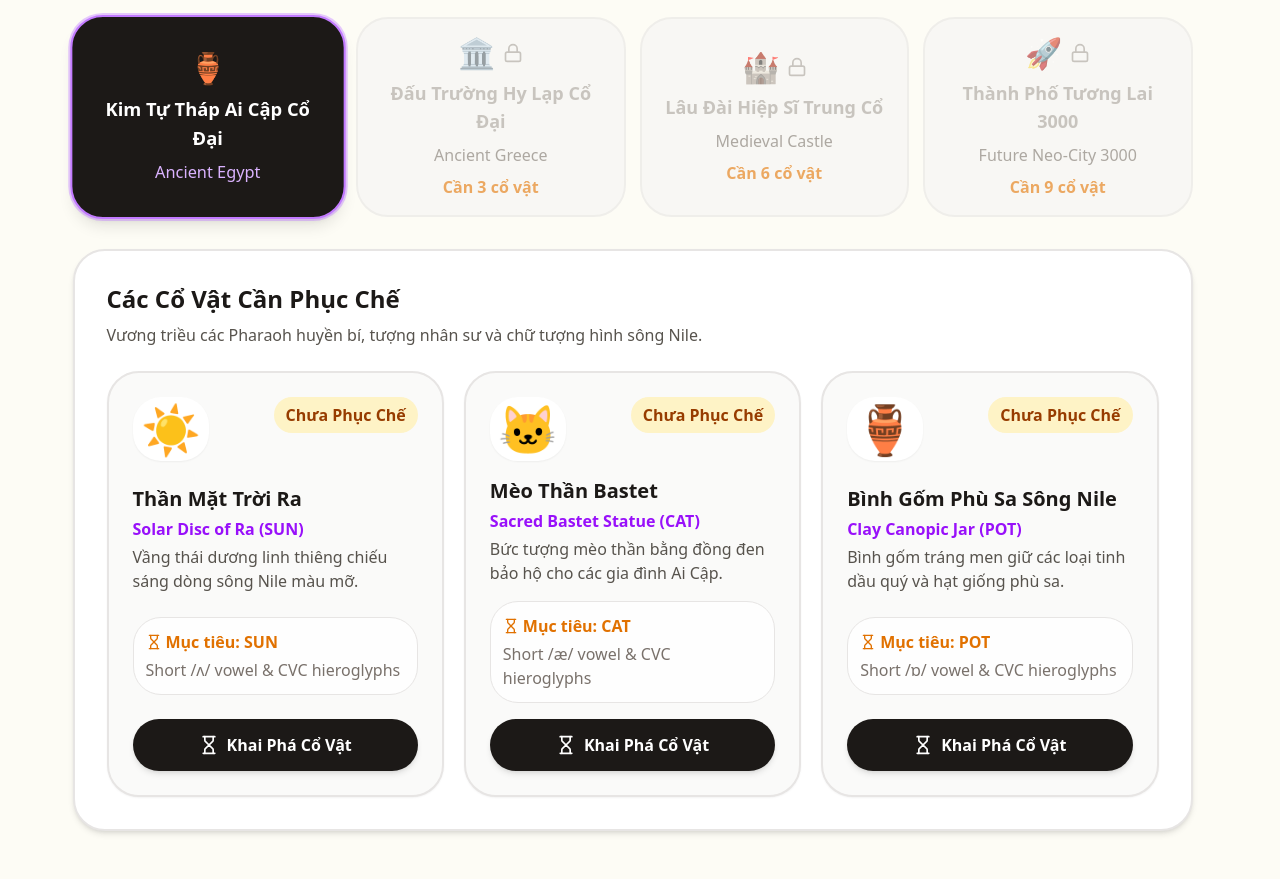
Test case: Phonics Time Machine UI Components › PhonicsTimeExperience Full Integration › renders top-level experience, opens modal, and unlocks relics
(page scrolled)
Note: Open SUN relic modal
What coordinates should you click on to do the following:
click the button with aria-label "khôi phục cổ vật egypt-sun"
I would click on:
 (275, 745)
Its box is [132,719,418,771].
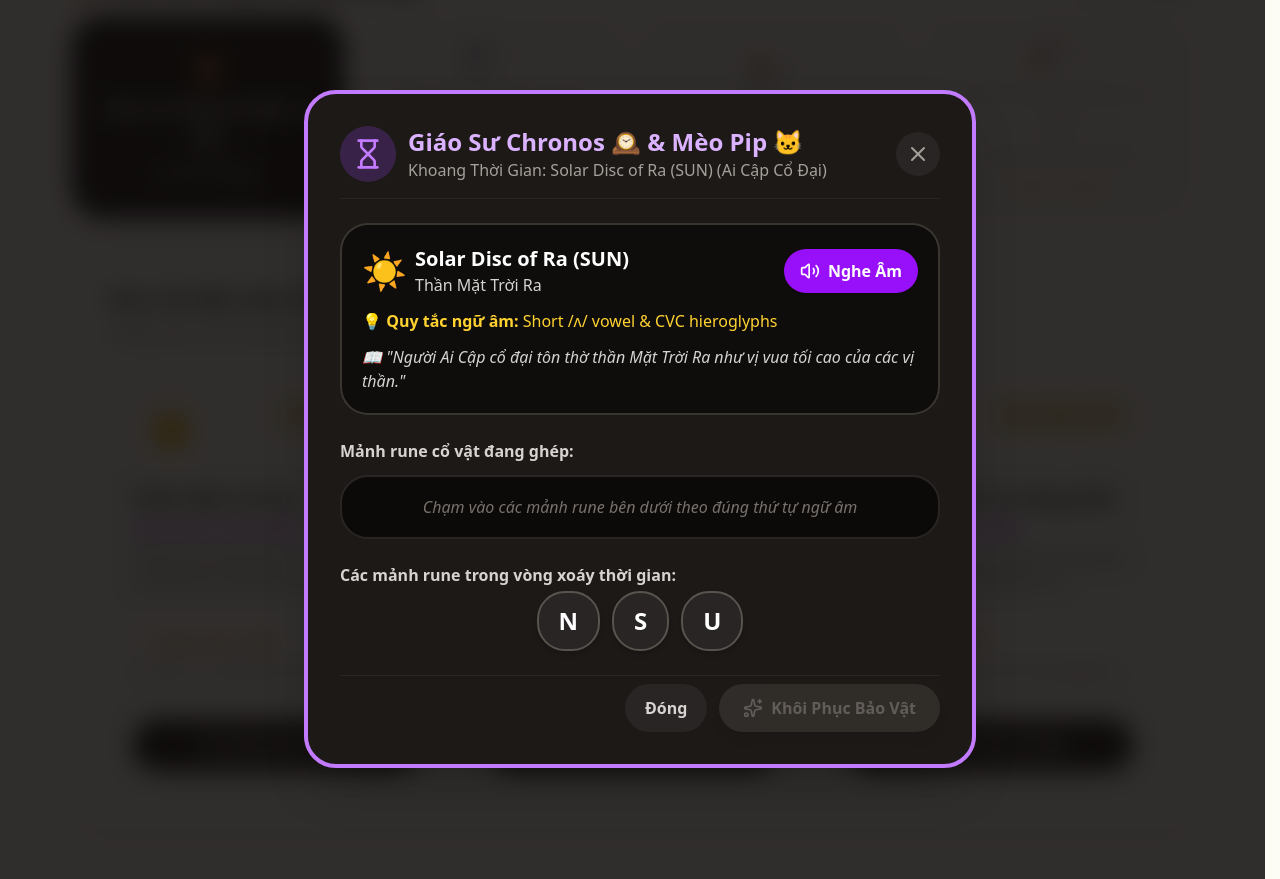
Check: the heading "Giáo Sư Chronos 🕰️ & Mèo Pip 🐱" is shown, box [408,126,827,158]
